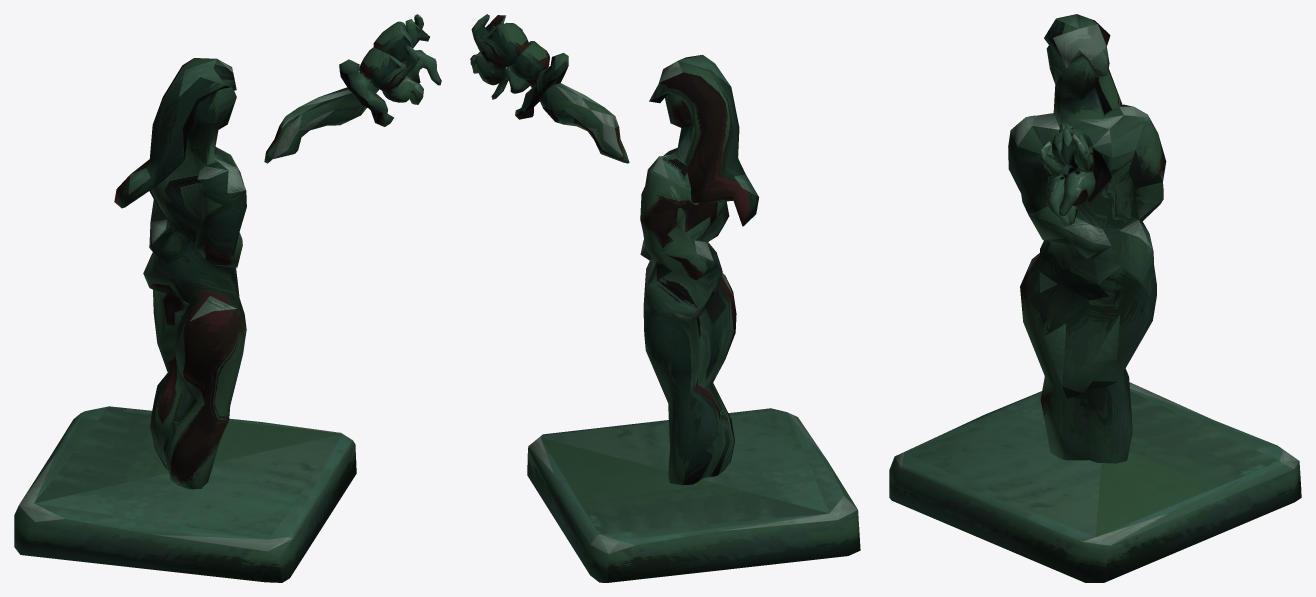
Rendered from Statue.fbx.
3 renders of one model, left to right at view 1: azimuth 30°, elevation 25°; view 2: azimuth 150°, elevation 25°; view 3: azimuth 270°, elevation 25°, orthographic. The views are drawn at different scales.
Visible parts, largest first — view 1: Bottom_Low.001, Hair_Low.001, Dagger_Low.001; view 2: Bottom_Low.001, Hair_Low.001, Dagger_Low.001; view 3: Bottom_Low.001, Hair_Low.001, Dagger_Low.001.
Boxes of the visible parts, x1=… form: Bottom_Low.001: x1=14, y1=406, x2=356, y2=582; Hair_Low.001: x1=114, y1=58, x2=246, y2=489; Dagger_Low.001: x1=264, y1=14, x2=441, y2=163; Bottom_Low.001: x1=527, y1=408, x2=860, y2=582; Hair_Low.001: x1=640, y1=54, x2=759, y2=485; Dagger_Low.001: x1=470, y1=14, x2=629, y2=163; Bottom_Low.001: x1=889, y1=382, x2=1301, y2=582; Hair_Low.001: x1=1008, y1=14, x2=1166, y2=463; Dagger_Low.001: x1=1040, y1=122, x2=1095, y2=225.
Size of the model in its own units: 839 by 891 by 687.
